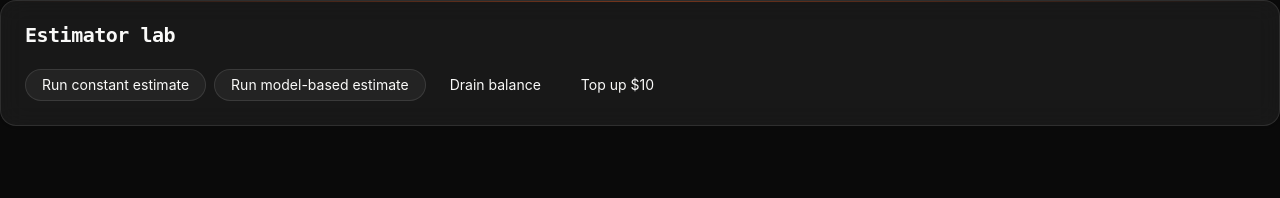
Test case: LabRunner › runs the constant estimate and reports settled tokens
Step 1. Click the button "Run constant estimate" → [116, 85], box [25, 69, 206, 101]
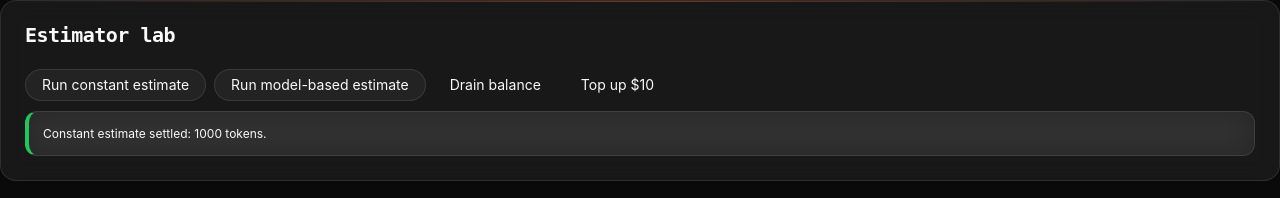
Expected: the text "Constant estimate settled: 1000 tokens." is shown, [25, 111, 1255, 156]
